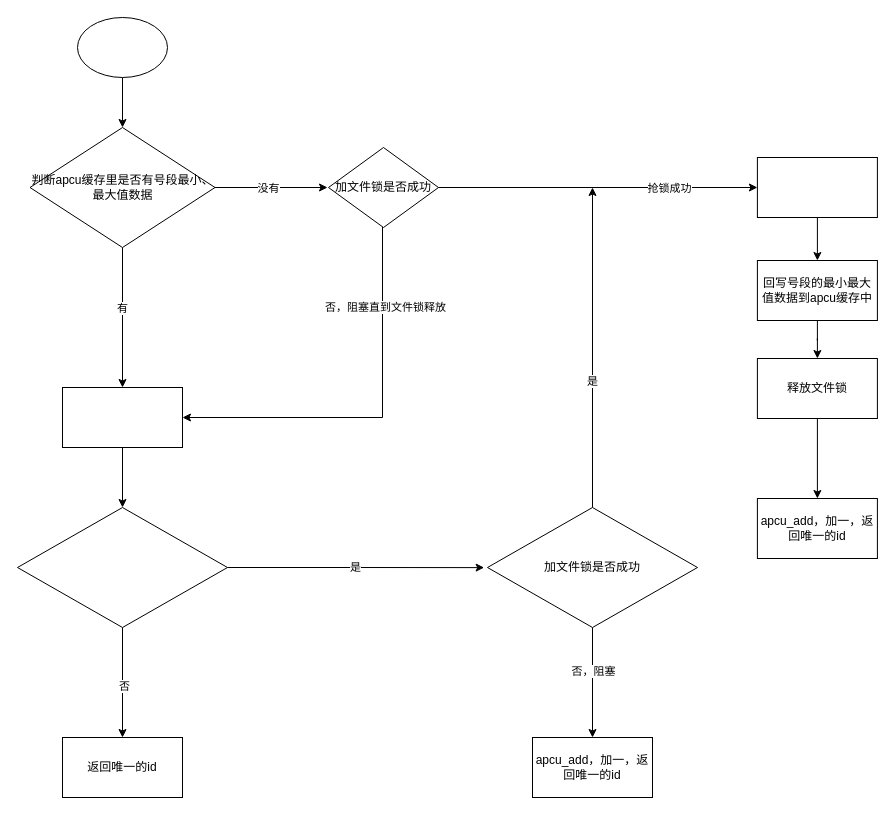
Image size: 895x815. Some labels were removed from this diagram. Here are the shapes that lost their labels. From the top down, the centre of each, then its label:
(122,47): 开始
(816,187): 请求guid服务端获取新的号段
(122,417): apcu_add,最小值+1
(122,567): 判断最小值是否大于等于最大值
